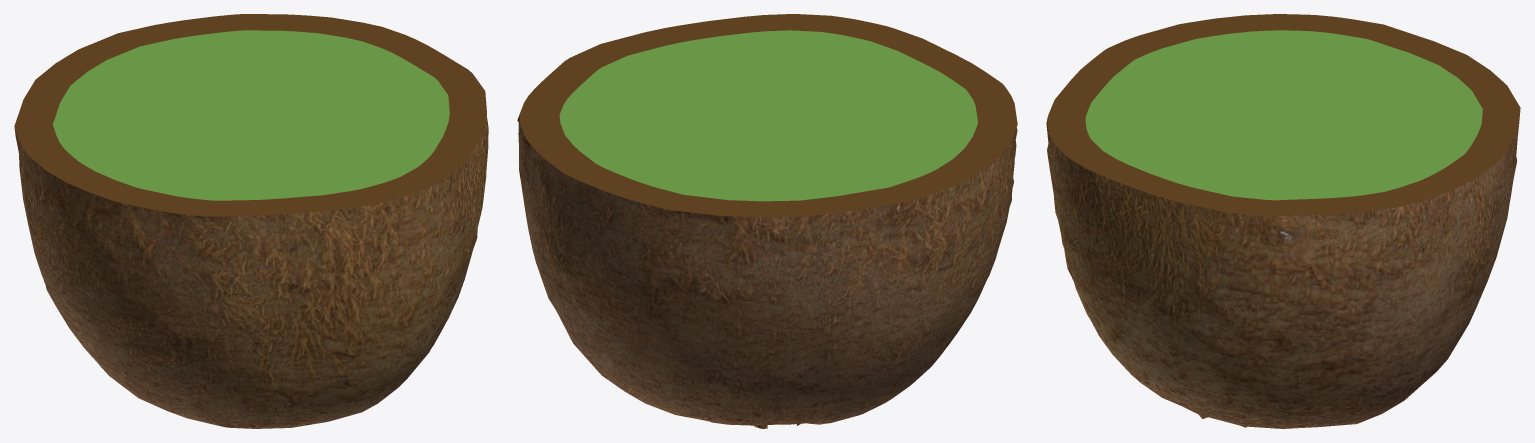
Rendered from halfB.glb.
3 views of the same model, side by side, from view 1: azimuth 30°, elevation 25°; view 2: azimuth 150°, elevation 25°; view 3: azimuth 270°, elevation 25° (orthographic). The views are drawn at different scales.
Parts seen in each view (by area): view 1: food_kiwi_01, Fruit flesh, Fruit rind; view 2: food_kiwi_01, Fruit flesh, Fruit rind; view 3: food_kiwi_01, Fruit flesh, Fruit rind.
Part boxes in pixels (x1,y1,x2,y2): food_kiwi_01: (14, 115, 488, 428); Fruit flesh: (52, 30, 449, 200); Fruit rind: (14, 14, 486, 216); food_kiwi_01: (517, 115, 1017, 428); Fruit flesh: (559, 30, 977, 201); Fruit rind: (519, 14, 1017, 217); food_kiwi_01: (1046, 118, 1518, 428); Fruit flesh: (1085, 30, 1482, 200); Fruit rind: (1047, 14, 1520, 216).
Size of the model in its own units: 1.54 by 1 by 1.51.
Materials: 3 (1 with a texture image).
